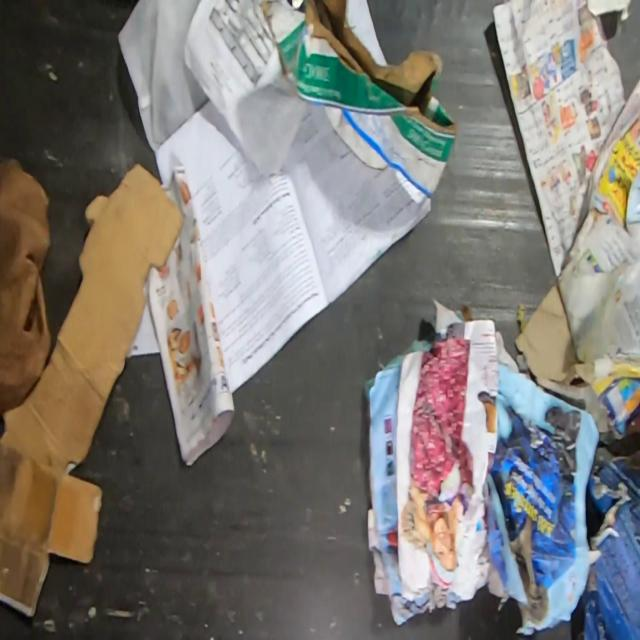cardboard: (0, 160, 186, 477), (259, 0, 460, 214), (0, 446, 106, 622), (582, 446, 640, 640), (513, 279, 593, 388)
